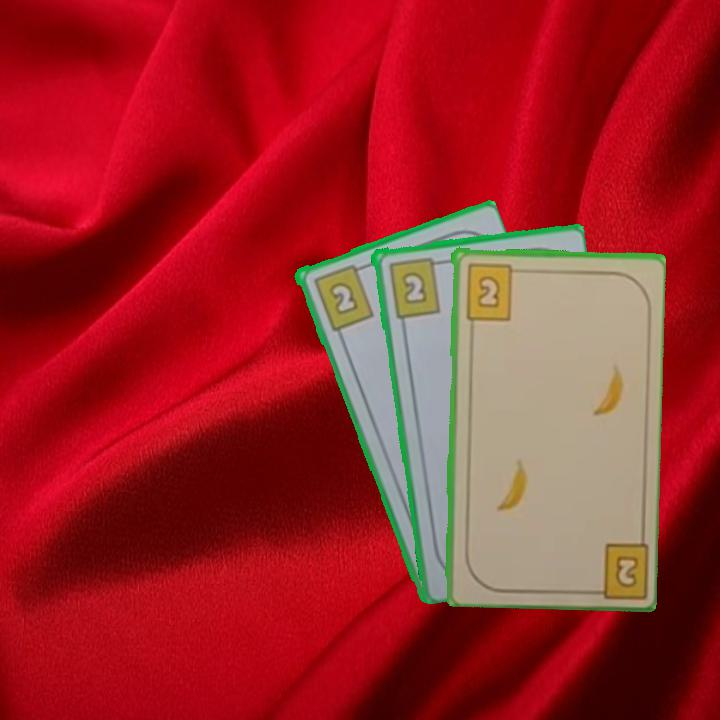2b: (309, 260, 376, 333), (384, 253, 446, 320), (582, 537, 649, 598), (462, 260, 524, 322)
